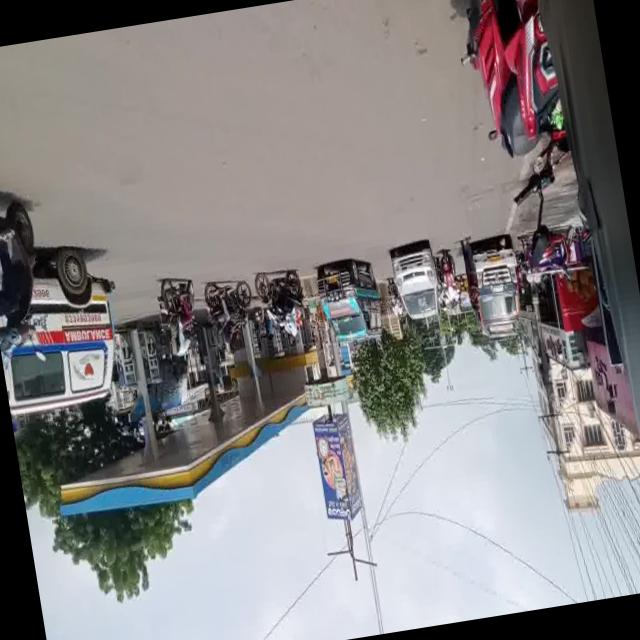ambulance: (0, 239, 131, 422), (466, 228, 536, 352), (315, 246, 385, 354)
